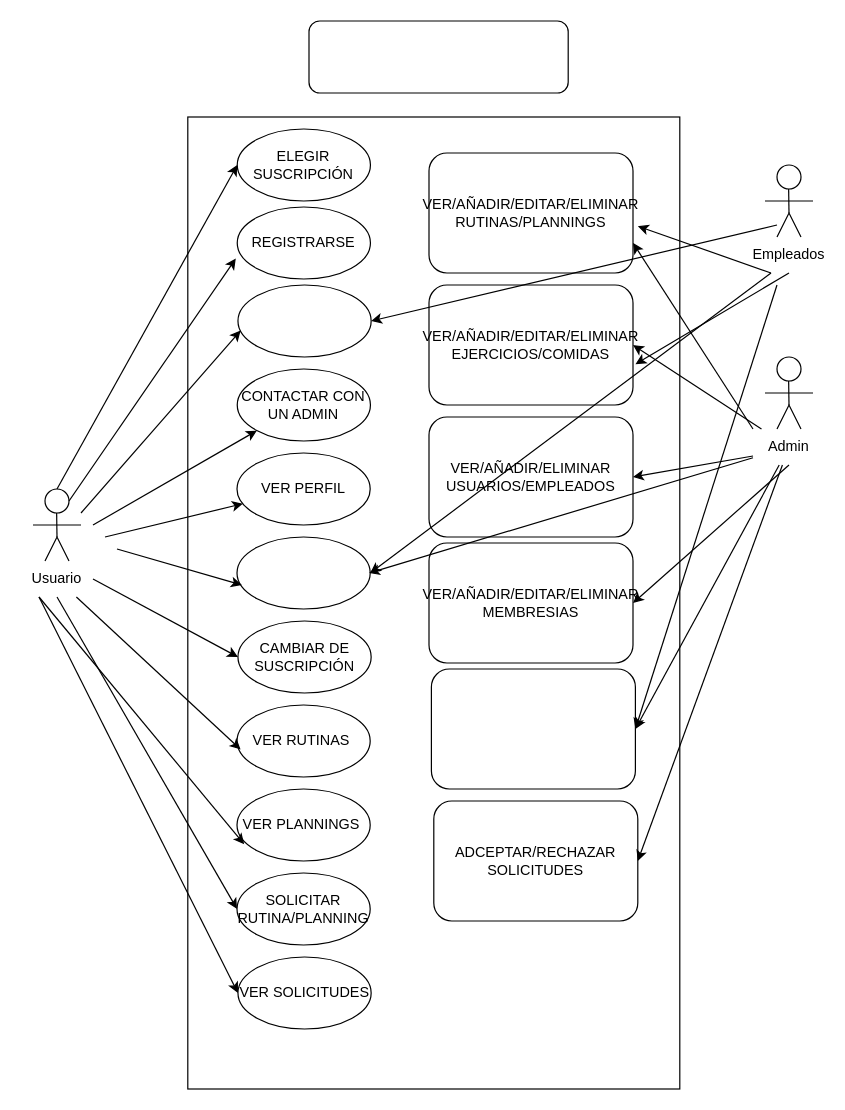
The diagram is 845 pixels wide and 1110 high, and some of its shapes have lost their labels. Here are the shapes that lost their labels. From the top down, the centre of each, then its label:
At point 438,56: "DIAGRAMA DE CASOS DE USO MIGIMNASIO".
At point 304,320: "INICIAR SESIÓN".
At point 303,572: "CERRAR SESIÓN".
At point 532,728: "VER/AÑADIR/ELIMINAR VENTAJAS".
